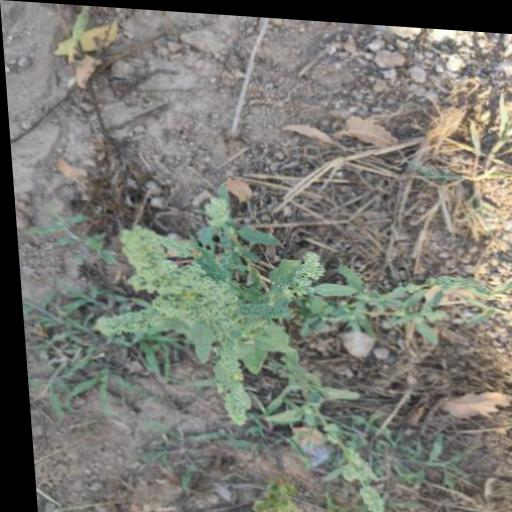weed: (72, 191, 475, 485)
